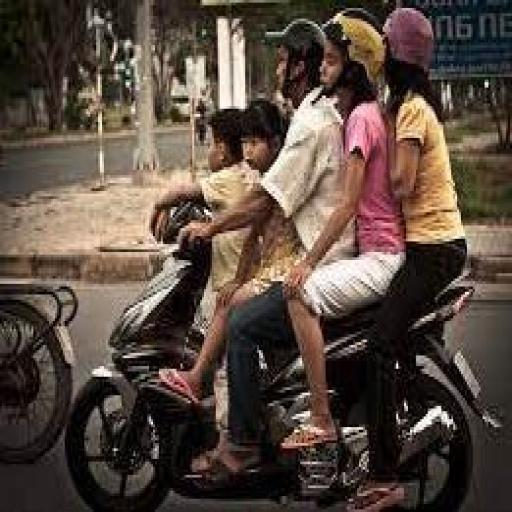helmet: (261, 21, 342, 142)
triple riding: (82, 18, 506, 512)
